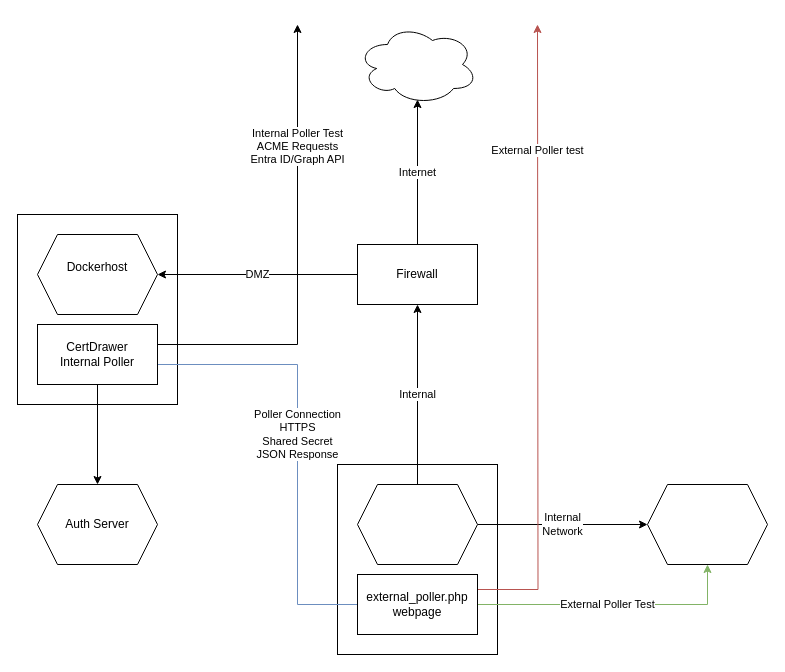
Image size: 785x672. Some labels were removed from this diagram. Each missing label, with the centre of its shape:
Internal Server: the point at 707,524
Webserver: the point at 417,524
